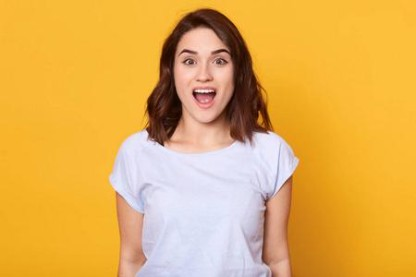张嘴: (190, 83, 216, 107)
